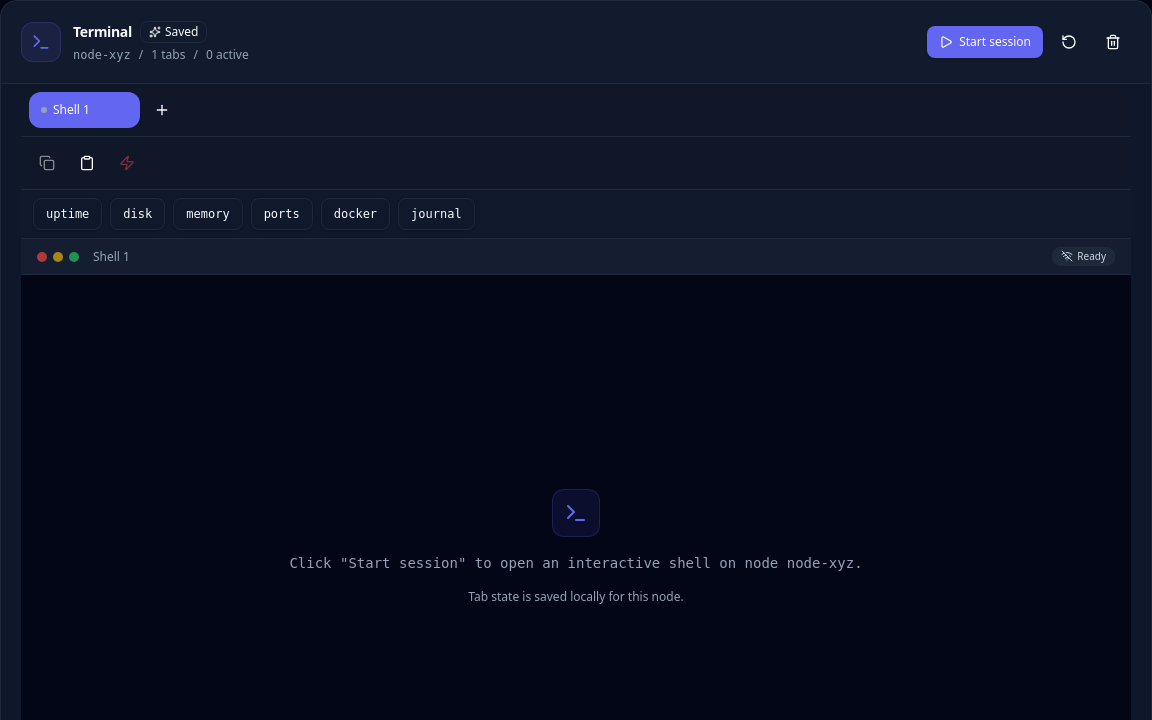
Test case: NodeTerminal › creates an additional fleet terminal tab
Click the button named "new terminal tab" at [162, 110], box [144,92,180,128]
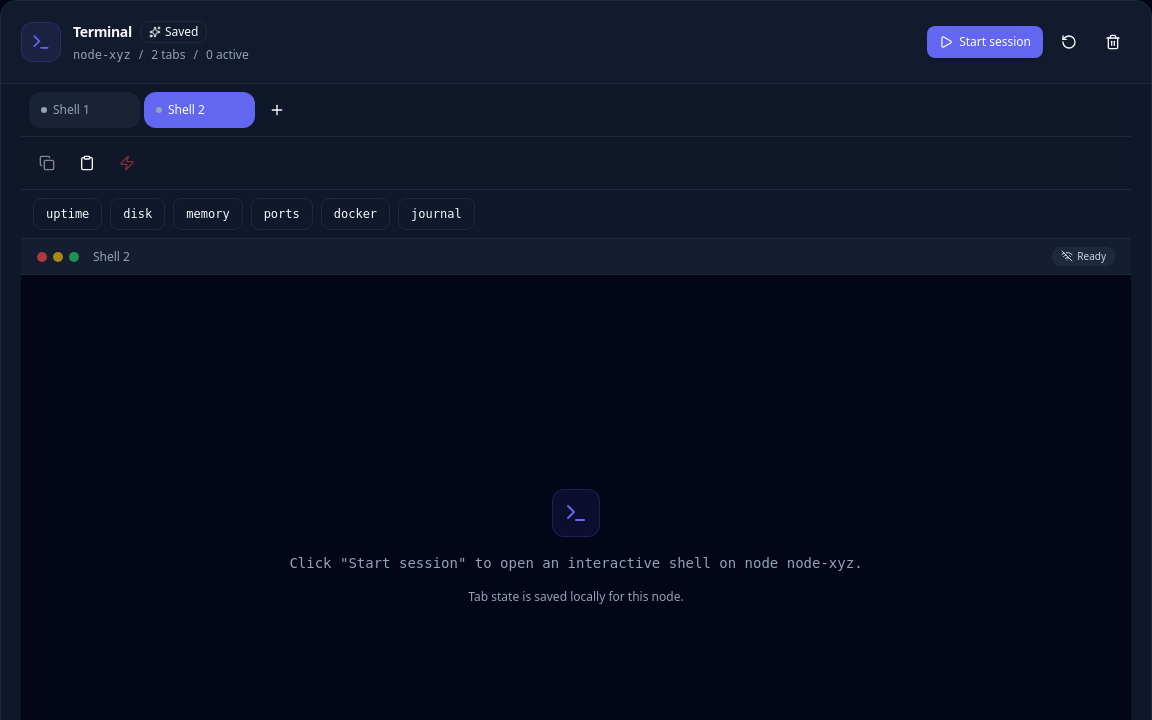
Check: the 1st text "Shell 2" is shown, box [168,102,205,118]
